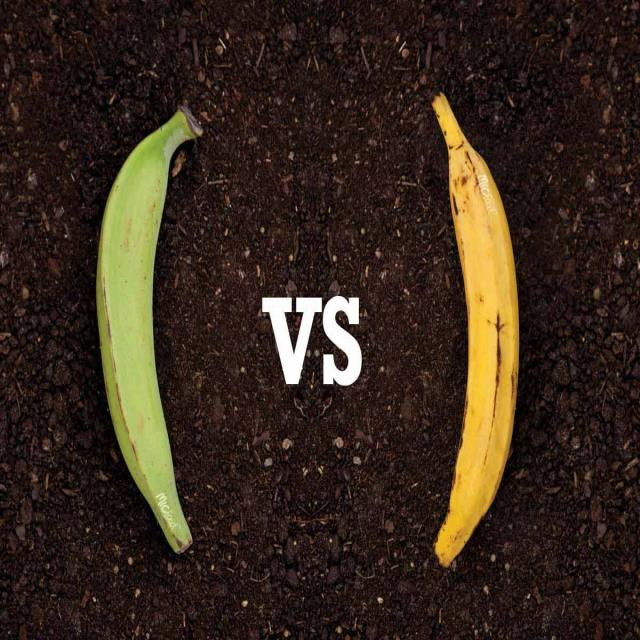banana: (423, 86, 522, 564)
plantains: (91, 105, 206, 553)
